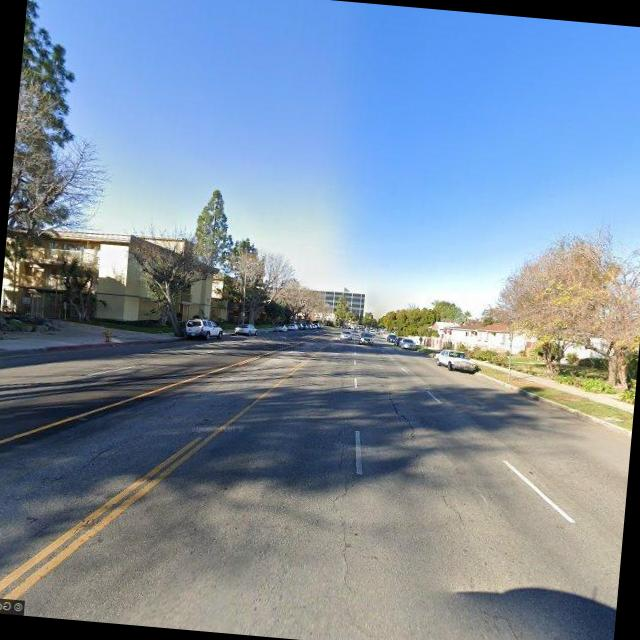pothole: (324, 462, 366, 589), (378, 379, 425, 445), (78, 441, 115, 474), (438, 492, 470, 526)
